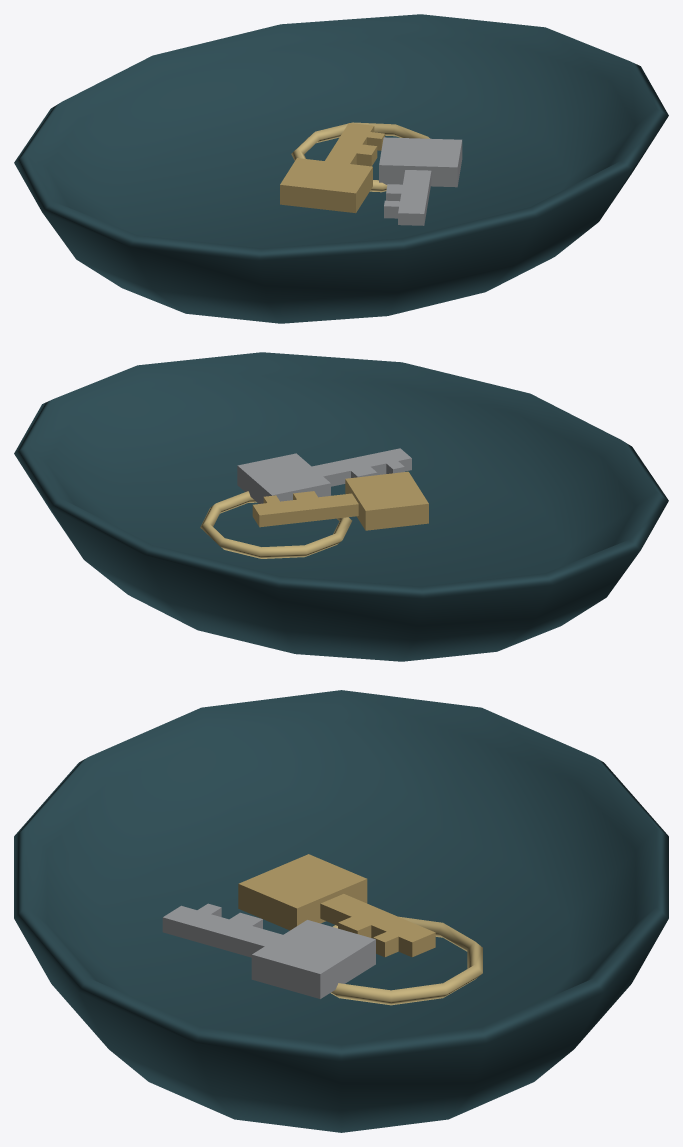
The model's file is key_dish.glb.
3 views of the same model, one above another, from view 1: azimuth 30°, elevation 25°; view 2: azimuth 150°, elevation 25°; view 3: azimuth 270°, elevation 25° (orthographic). The views are drawn at different scales.
Visible parts, largest first — view 1: key_dish; view 2: key_dish; view 3: key_dish.
Part boxes in pixels (left/top/right/bottom): key_dish: left=14, top=14, right=668, bottom=323; key_dish: left=14, top=352, right=668, bottom=661; key_dish: left=14, top=690, right=668, bottom=1132.
Size of the model in its own units: 0.158 by 0.026 by 0.1186.
